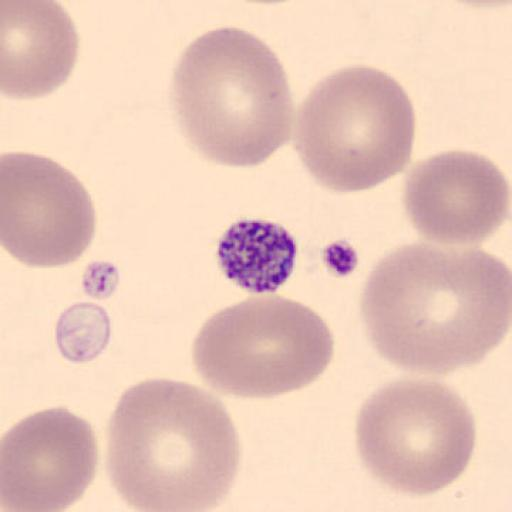Platelet: (212, 214, 300, 295), (51, 299, 115, 367)
RBC: (357, 242, 508, 376), (103, 376, 241, 512), (168, 25, 296, 168), (292, 63, 418, 194), (192, 294, 336, 400), (353, 375, 478, 497), (2, 150, 98, 269), (400, 148, 510, 247), (2, 406, 100, 512), (1, 0, 80, 102), (438, 0, 512, 10)
